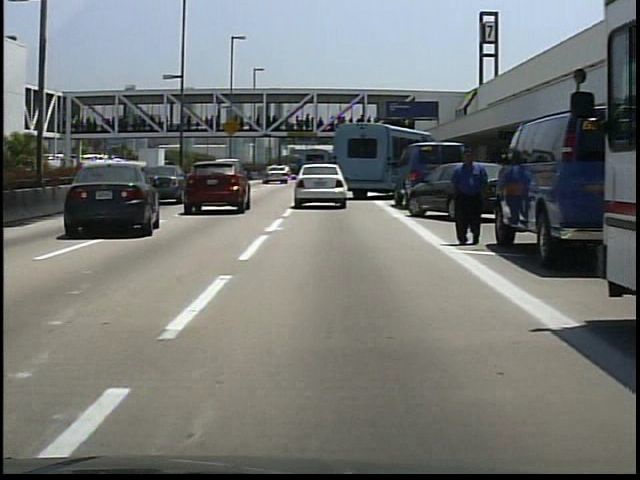person: (446, 147, 495, 249)
